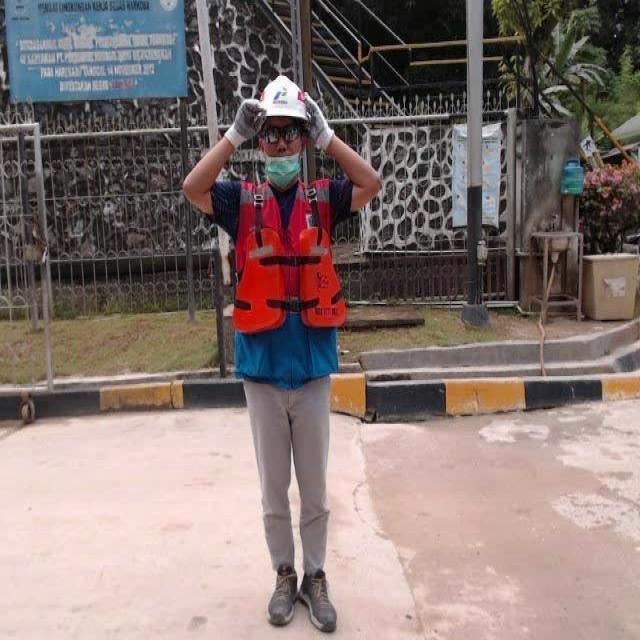vest: (232, 176, 345, 379)
